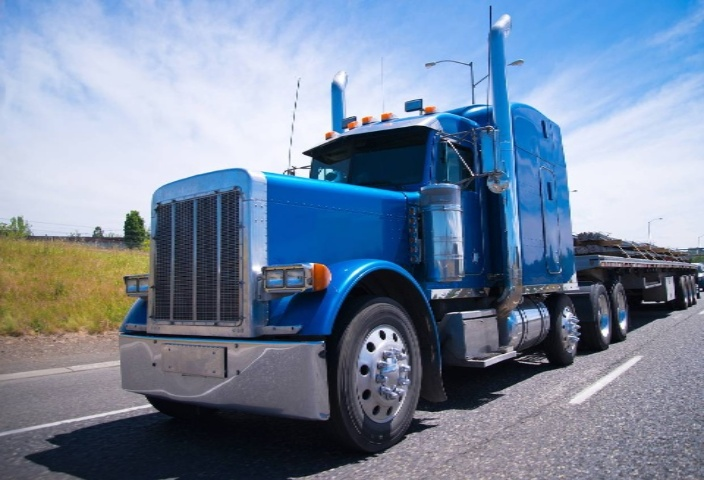truck: (98, 1, 704, 463)
